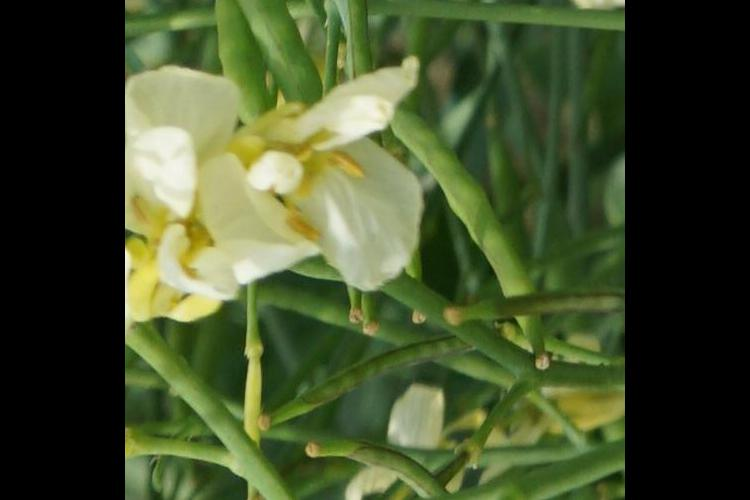pod: (420, 101, 556, 422), (240, 357, 403, 447), (435, 282, 612, 349), (289, 432, 445, 500), (331, 236, 393, 345)
white: (230, 63, 432, 303), (138, 30, 286, 328)
